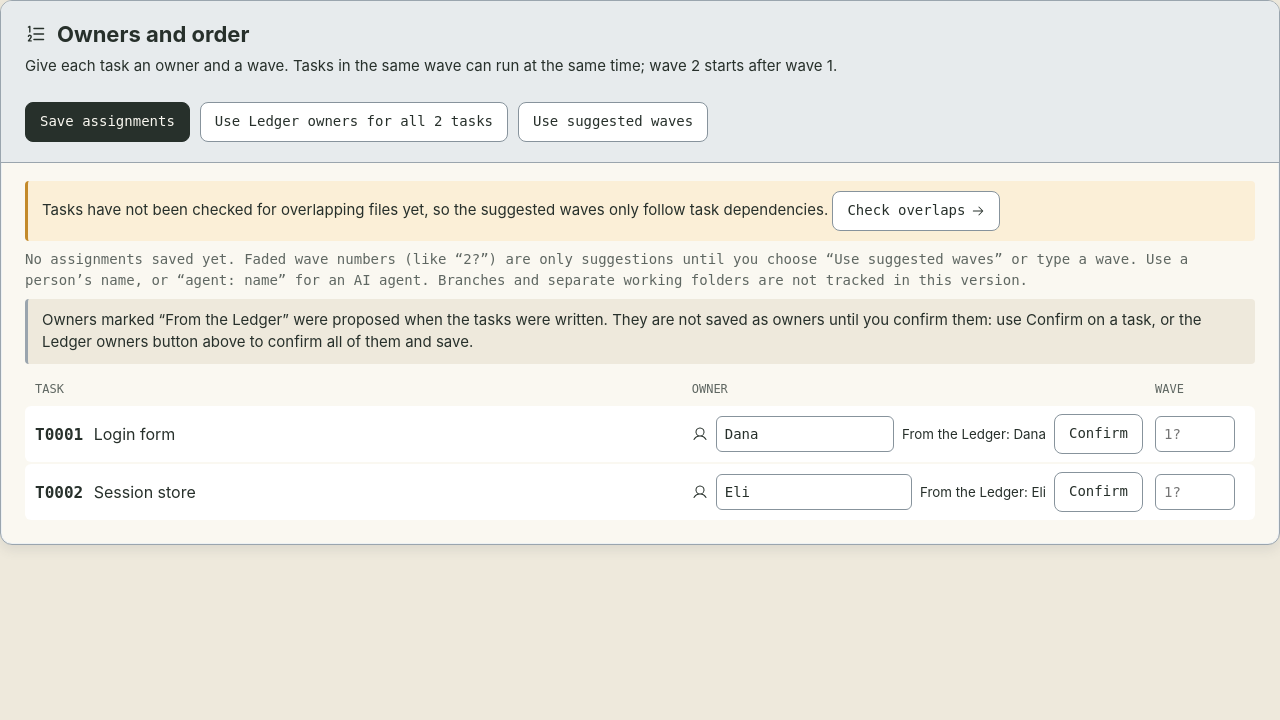
Test: an owner already allocated is kept instead of the Ledger proposal
Clear the field named "Owner for T0002" at (814, 492), box x1=716 y1=474 x2=912 y2=510
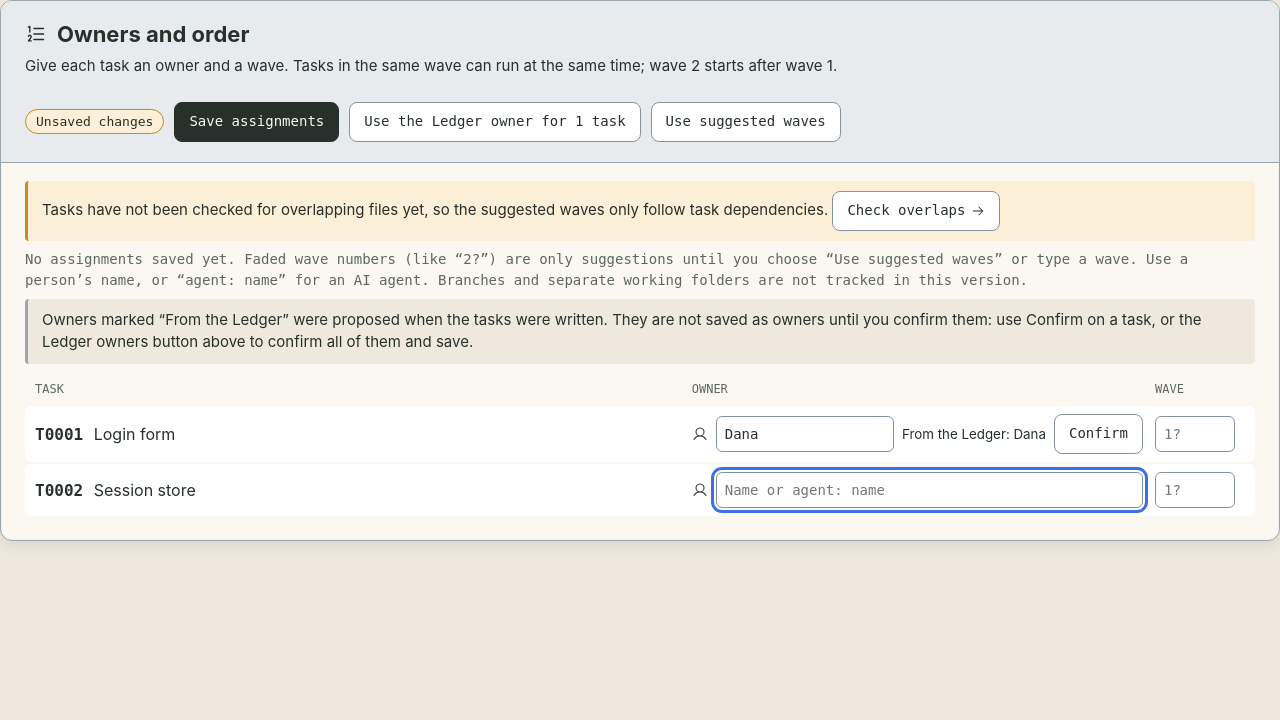
Type "agent: builder" into the field named "Owner for T0002".
click(929, 490); type("agent: builder")  # box x1=716 y1=472 x2=1143 y2=508
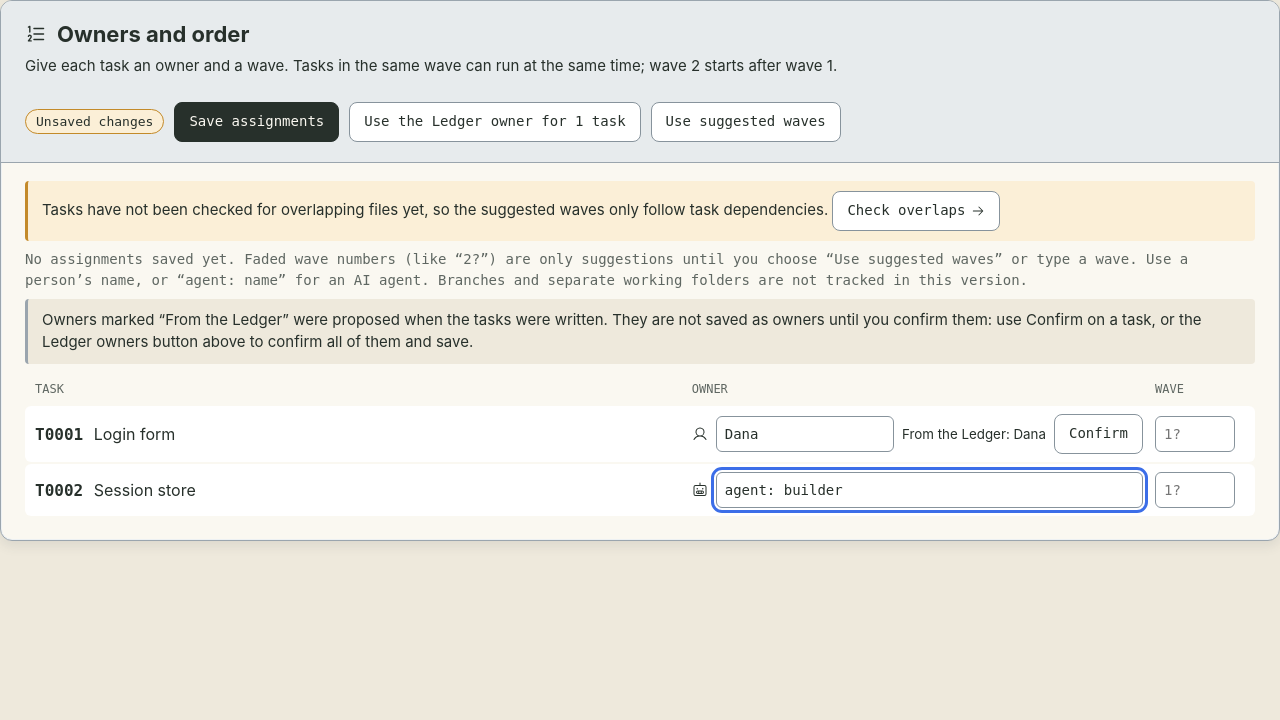
Click the button "Save assignments".
click(257, 122)  # box x1=174 y1=102 x2=339 y2=142
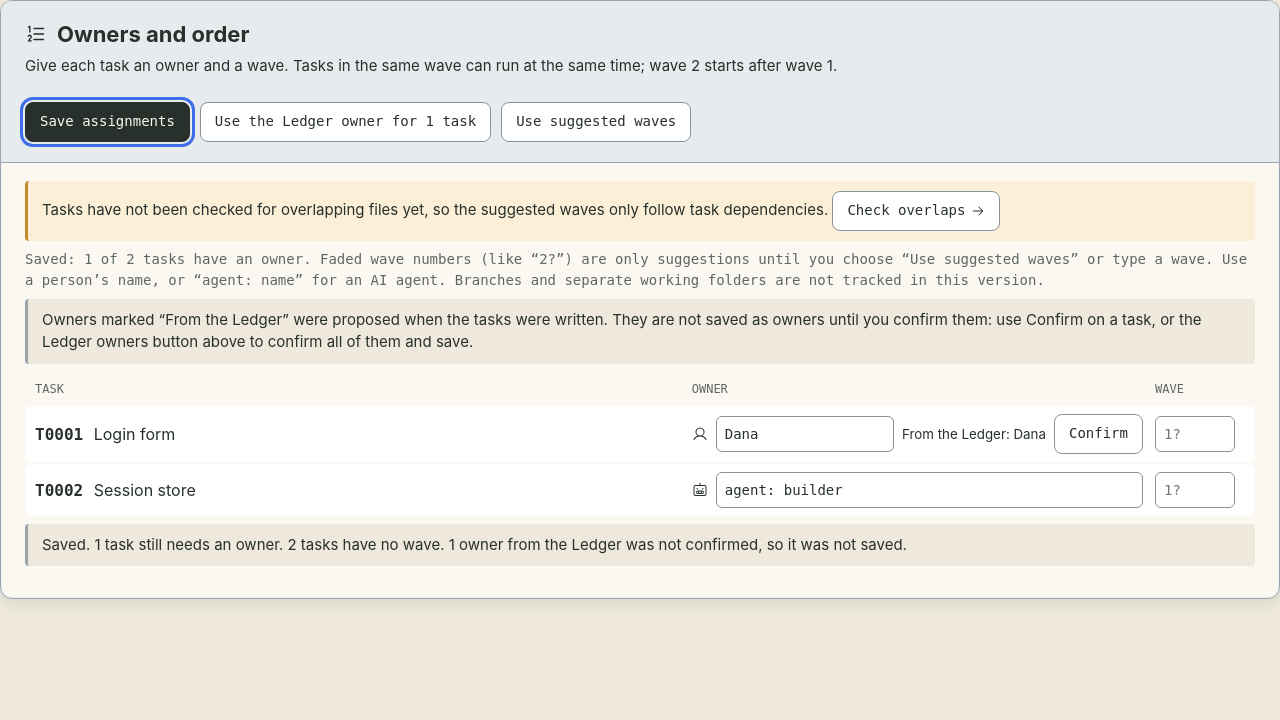
Result: the text "1 owner from the Ledger was not confirmed" is shown at x1=42 y1=534 x2=907 y2=554
Click the button "Use the Ledger owner for 1 task".
click(346, 122)  # box x1=200 y1=102 x2=491 y2=142
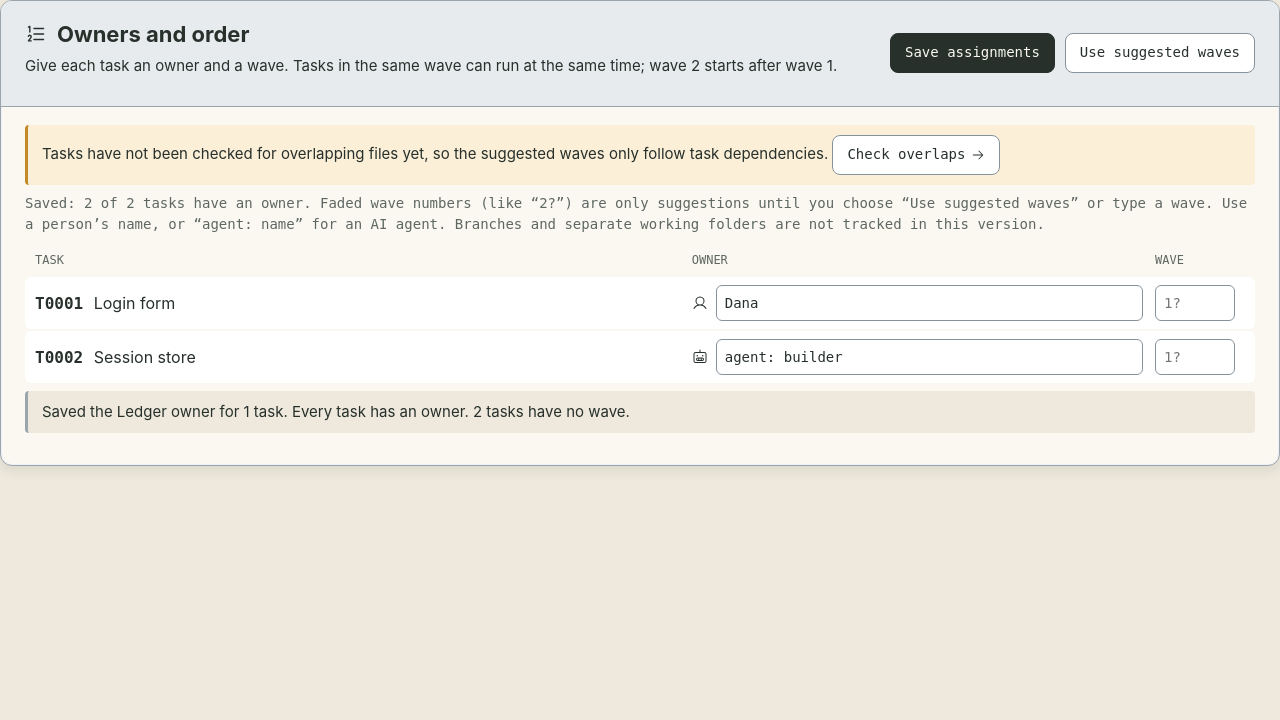
Result: the text "Saved the Ledger owner for 1 task" is shown at x1=42 y1=402 x2=630 y2=420
